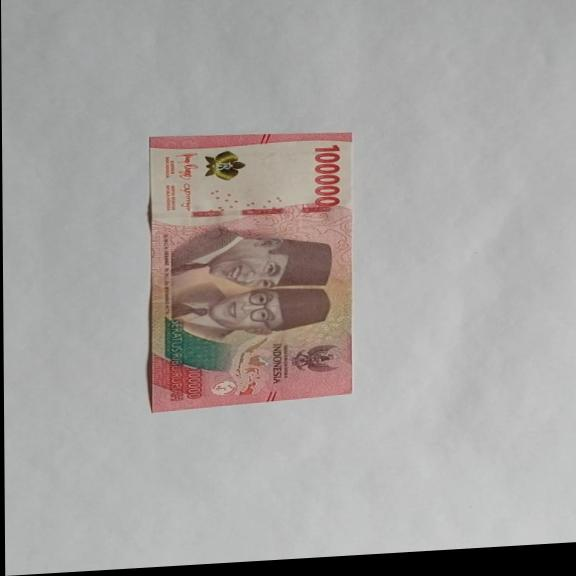Kertas: (145, 125, 356, 413), (310, 143, 344, 209)
